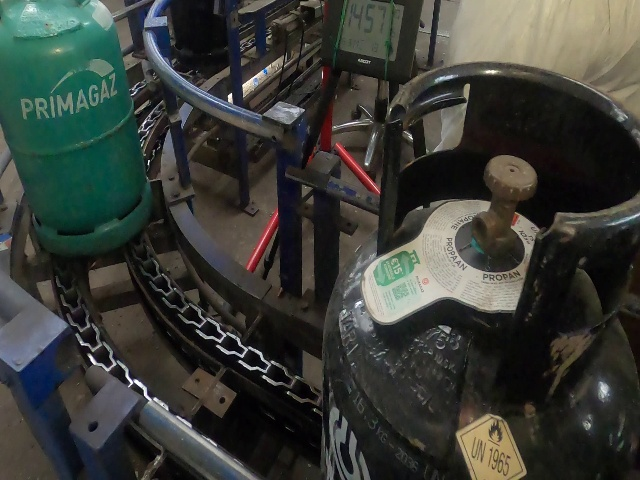gas_bottle: (2, 1, 640, 480)
